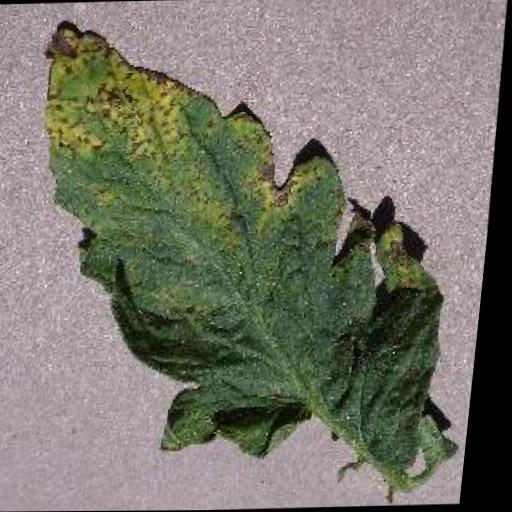Septoria: (9, 7, 479, 499)
